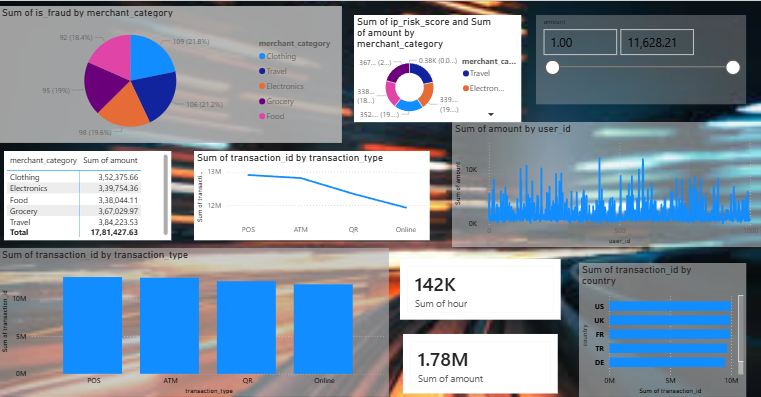

Layout of this report page (visuals, bound fields, positions):
{"tool":"powerbi","page":{"name":"Page 1","canvas":[1280,720],"ordinal":0},"visuals":[{"type":"barChart","fields":{"Category":["synthetic_fraud_dataset.country"],"Y":["Sum(synthetic_fraud_dataset.transaction_id)"]},"box":[974.3,495.5,280.5,225.1],"z":0},{"type":"columnChart","fields":{"Category":["synthetic_fraud_dataset.transaction_type"],"Y":["Sum(synthetic_fraud_dataset.transaction_id)"]},"box":[0,470.3,655.1,250.3],"z":1000},{"type":"lineChart","fields":{"Category":["synthetic_fraud_dataset.user_id"],"Y":["Sum(synthetic_fraud_dataset.amount)"]},"box":[760.9,258.7,519.1,210],"z":2000},{"type":"pieChart","fields":{"Category":["synthetic_fraud_dataset.merchant_category"],"Y":["Sum(synthetic_fraud_dataset.is_fraud)"]},"box":[0,63.8,576.2,230.1],"z":3000},{"type":"slicer","fields":{"Values":["synthetic_fraud_dataset.amount"]},"box":[902,79,352.8,149.5],"z":4000},{"type":"cardVisual","fields":{"Data":["Sum(synthetic_fraud_dataset.amount)"]},"box":[673.6,609.8,270.4,110.9],"z":5000},{"type":"cardVisual","fields":{"Data":["Sum(synthetic_fraud_dataset.hour)"]},"box":[668.6,483.8,280.5,112.5],"z":6000},{"type":"donutChart","fields":{"Category":["synthetic_fraud_dataset.merchant_category","synthetic_fraud_dataset.amount"],"Y":["Sum(synthetic_fraud_dataset.ip_risk_score)","Sum(synthetic_fraud_dataset.amount)"]},"box":[596.3,79,280.5,179.7],"z":6001},{"type":"actionButton","box":[0,0,100,40],"z":6002},{"type":"pivotTable","fields":{"Rows":["synthetic_fraud_dataset.merchant_category"],"Values":["Sum(synthetic_fraud_dataset.amount)"]},"box":[8.4,307.4,280.5,149.5],"z":6003},{"type":"lineChart","fields":{"Category":["synthetic_fraud_dataset.transaction_type"],"Y":["Sum(synthetic_fraud_dataset.transaction_id)"]},"box":[327.6,307.4,396.4,149.5],"z":6004}]}

Visuals, with their boxes in screenshot pixels (x1, y1, x2, y2):
barChart - synthetic_fraud_dataset.country x Sum(synthetic_fraud_dataset.transaction_id): x1=571 y1=263 x2=734 y2=395
columnChart - synthetic_fraud_dataset.transaction_type x Sum(synthetic_fraud_dataset.transaction_id): x1=2 y1=249 x2=384 y2=395
lineChart - synthetic_fraud_dataset.user_id x Sum(synthetic_fraud_dataset.amount): x1=446 y1=125 x2=749 y2=248
pieChart - synthetic_fraud_dataset.merchant_category x Sum(synthetic_fraud_dataset.is_fraud): x1=2 y1=11 x2=338 y2=146
slicer - synthetic_fraud_dataset.amount: x1=528 y1=20 x2=734 y2=108
cardVisual - Sum(synthetic_fraud_dataset.amount): x1=395 y1=330 x2=553 y2=395
cardVisual - Sum(synthetic_fraud_dataset.hour): x1=392 y1=257 x2=556 y2=322
donutChart - synthetic_fraud_dataset.merchant_category x synthetic_fraud_dataset.amount: x1=350 y1=20 x2=514 y2=125
pivotTable - synthetic_fraud_dataset.merchant_category x Sum(synthetic_fraud_dataset.amount): x1=7 y1=154 x2=171 y2=241
lineChart - synthetic_fraud_dataset.transaction_type x Sum(synthetic_fraud_dataset.transaction_id): x1=193 y1=154 x2=424 y2=241
